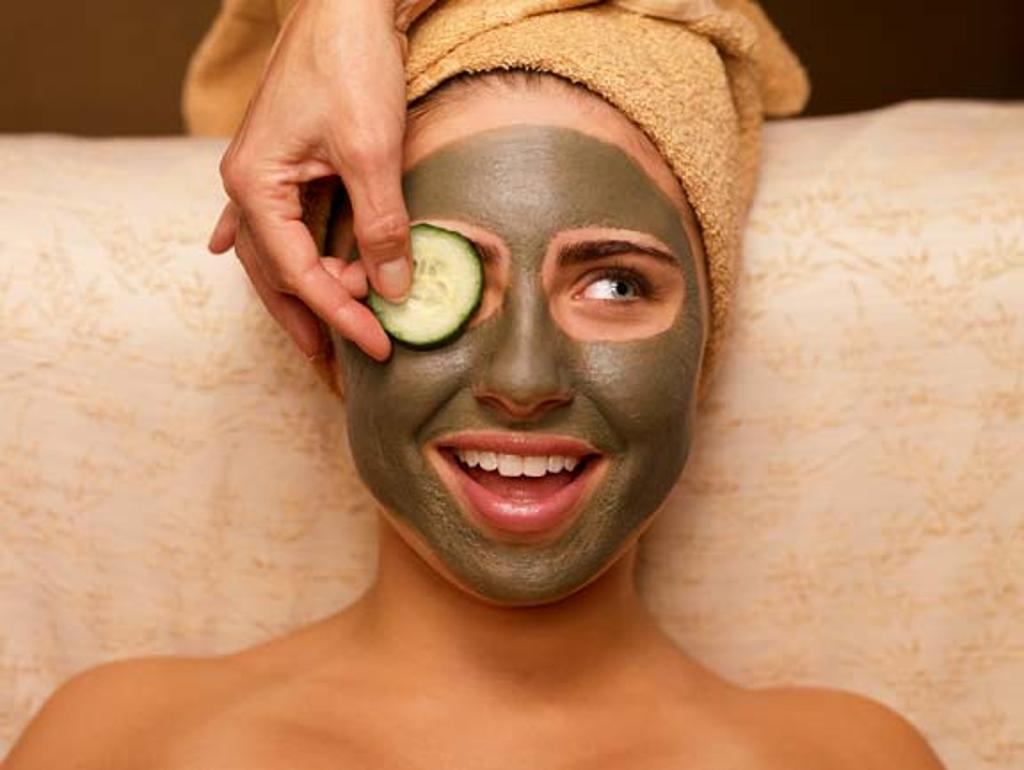face: (340, 132, 708, 608)
